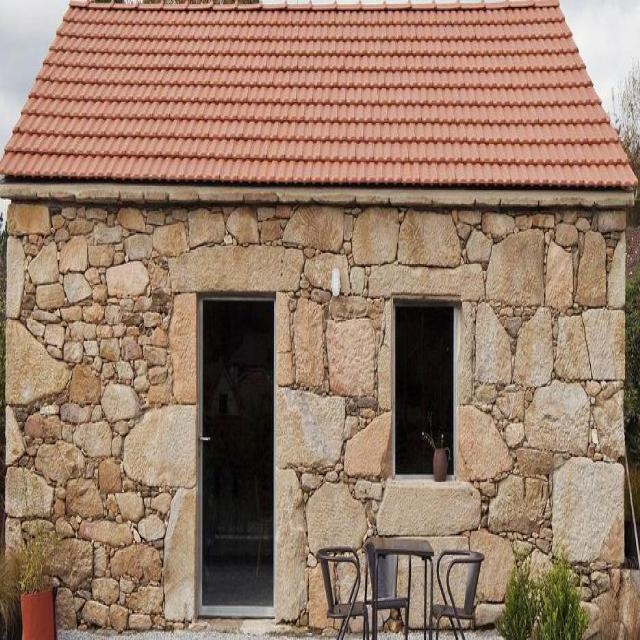door: (196, 292, 275, 620)
window: (391, 297, 457, 476)
